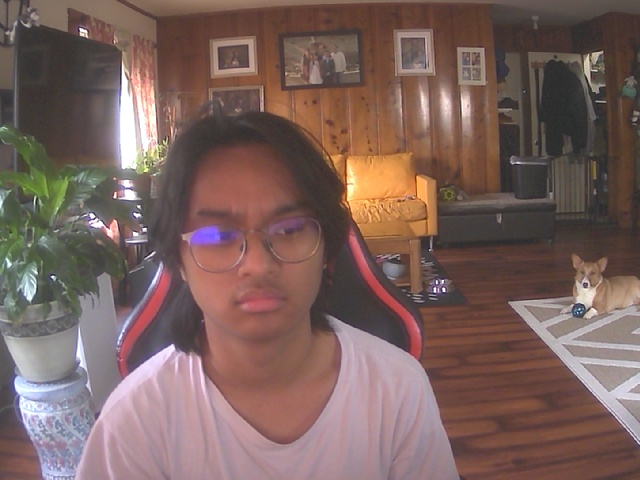anger: (170, 126, 336, 345)
